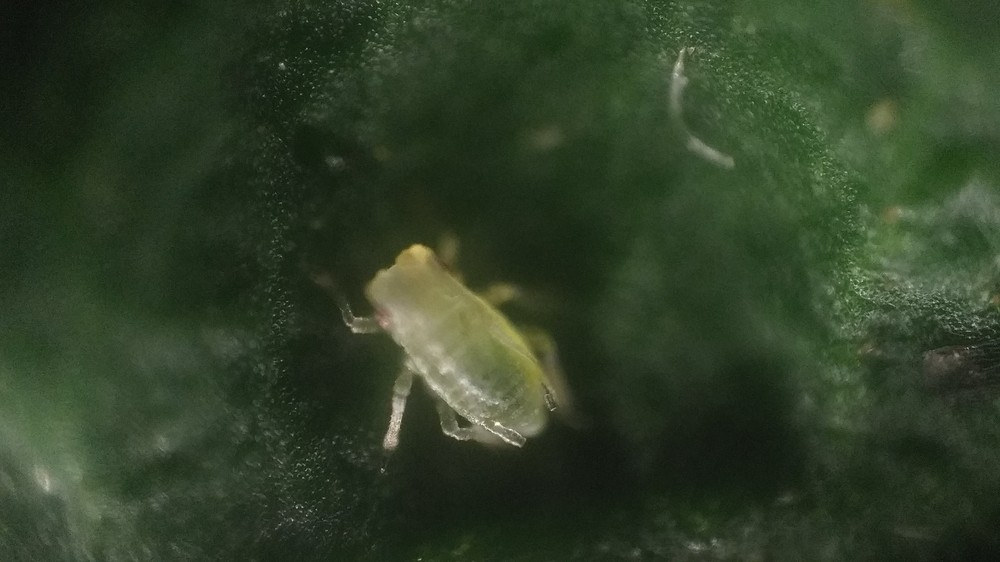Pulgon: (307, 215, 632, 497)
